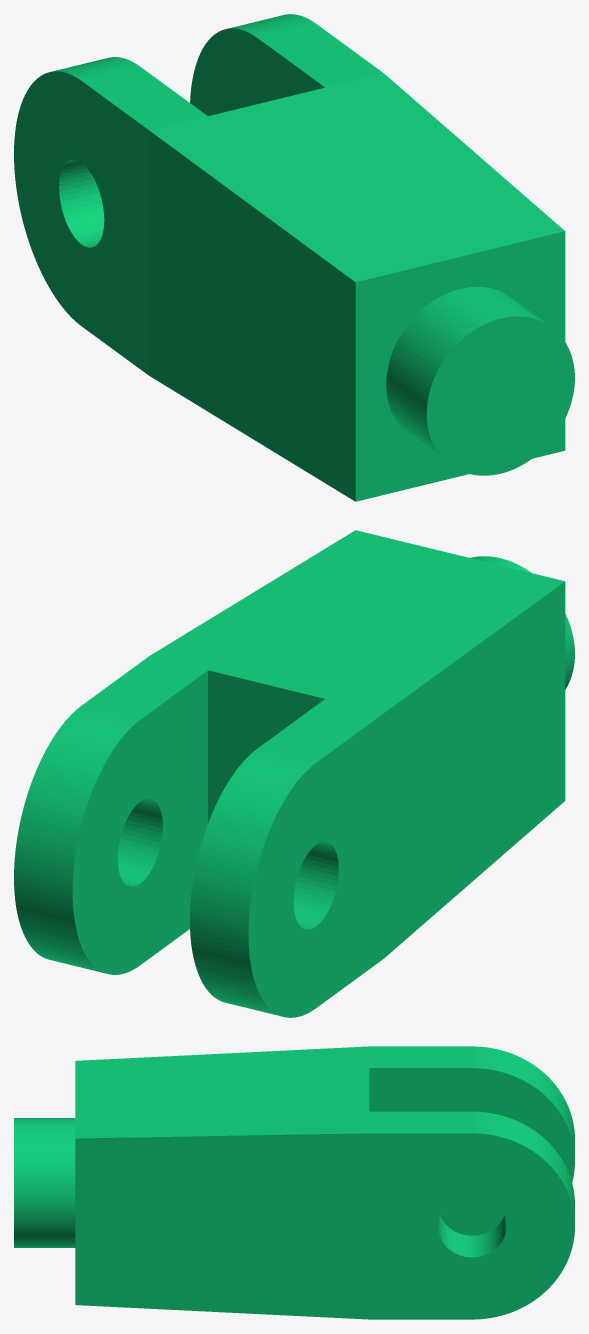
3 views of the same model, one above another, from view 1: azimuth 30°, elevation 25°; view 2: azimuth 150°, elevation 25°; view 3: azimuth 270°, elevation 25° (orthographic). The views are drawn at different scales.
Visible parts, largest first — view 1: node; view 2: node; view 3: node.
Boxes of the visible parts, x1=… form: node: x1=14, y1=14, x2=574, y2=501; node: x1=14, y1=530, x2=574, y2=1017; node: x1=14, y1=1046, x2=574, y2=1319.
Bounding box in the file's own units: 0.0524 × 0.0524 × 0.143.
